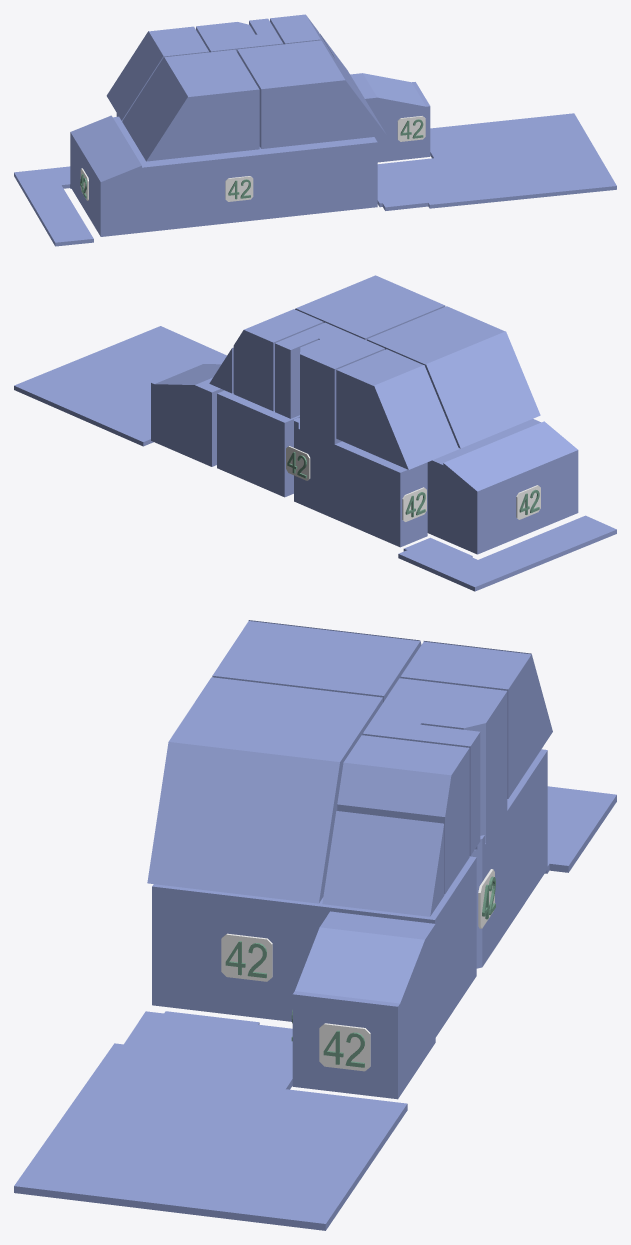
The picture shows the model from 3 angles, top to bottom: view 1: azimuth 30°, elevation 25°; view 2: azimuth 150°, elevation 25°; view 3: azimuth 270°, elevation 25°; orthographic projection. The views are drawn at different scales.
Parts seen in each view (by area): view 1: g_1, g_15, g_8, g_7, g_0, g_5, g_9, g_13, g_10, g_6, g_14, g_11 (+2 smaller); view 2: g_1, g_8, g_15, g_9, g_4, g_0, g_5, g_7, g_6, g_10, g_11, g_13 (+6 smaller); view 3: g_15, g_7, g_0, g_5, g_6, g_8, g_12, g_9, g_10, g_11, g_4, g_14 (+3 smaller).
Part boxes in pixels (box(x1,y1,x2,y2)): g_1: box(70, 115, 294, 236); g_15: box(377, 113, 616, 210); g_8: box(122, 49, 259, 161); g_7: box(237, 40, 386, 148); g_0: box(292, 137, 377, 215); g_5: box(350, 73, 430, 162); g_9: box(106, 26, 208, 120); g_13: box(24, 185, 93, 246); g_10: box(202, 18, 283, 52); g_6: box(270, 14, 332, 54); g_14: box(14, 166, 71, 192); g_11: box(196, 22, 255, 38); g_1: box(427, 419, 578, 554); g_8: box(367, 306, 540, 448); g_15: box(14, 326, 226, 446); g_9: box(336, 349, 458, 469); g_4: box(337, 442, 427, 547); g_0: box(217, 390, 299, 497); g_5: box(151, 362, 224, 466); g_7: box(295, 275, 445, 340); g_6: box(233, 309, 323, 411); g_10: box(275, 322, 384, 418); g_11: box(300, 339, 354, 438); g_13: box(478, 515, 616, 577); g_15: box(14, 1011, 407, 1230); g_7: box(147, 677, 382, 903); g_0: box(152, 856, 476, 1037); g_5: box(292, 911, 435, 1099); g_6: box(337, 735, 469, 894); g_8: box(212, 620, 421, 702); g_12: box(322, 811, 444, 916); g_9: box(400, 641, 552, 798); g_10: box(362, 678, 480, 855); g_11: box(421, 686, 507, 834); g_4: box(507, 749, 547, 927); g_14: box(545, 786, 616, 873).
Bounding box in the file's own units: 21.66 × 5.36 × 11.84.
